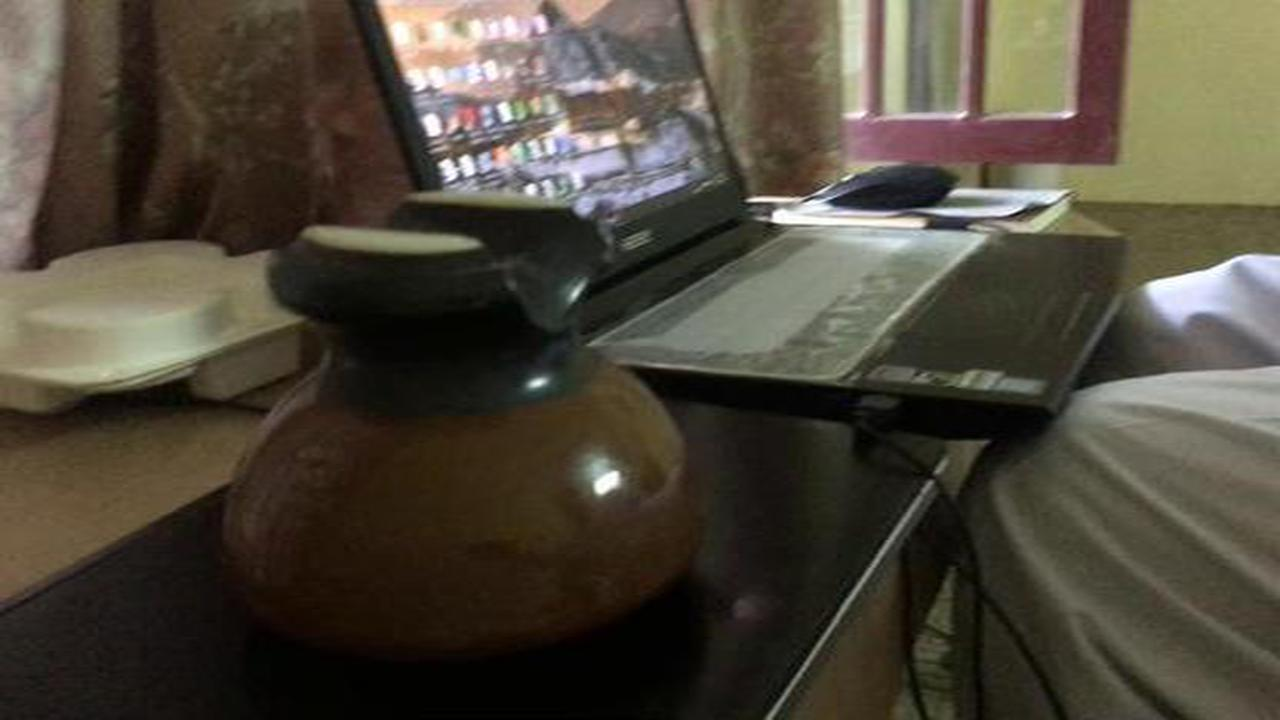insulator_pin: (201, 183, 727, 663)
